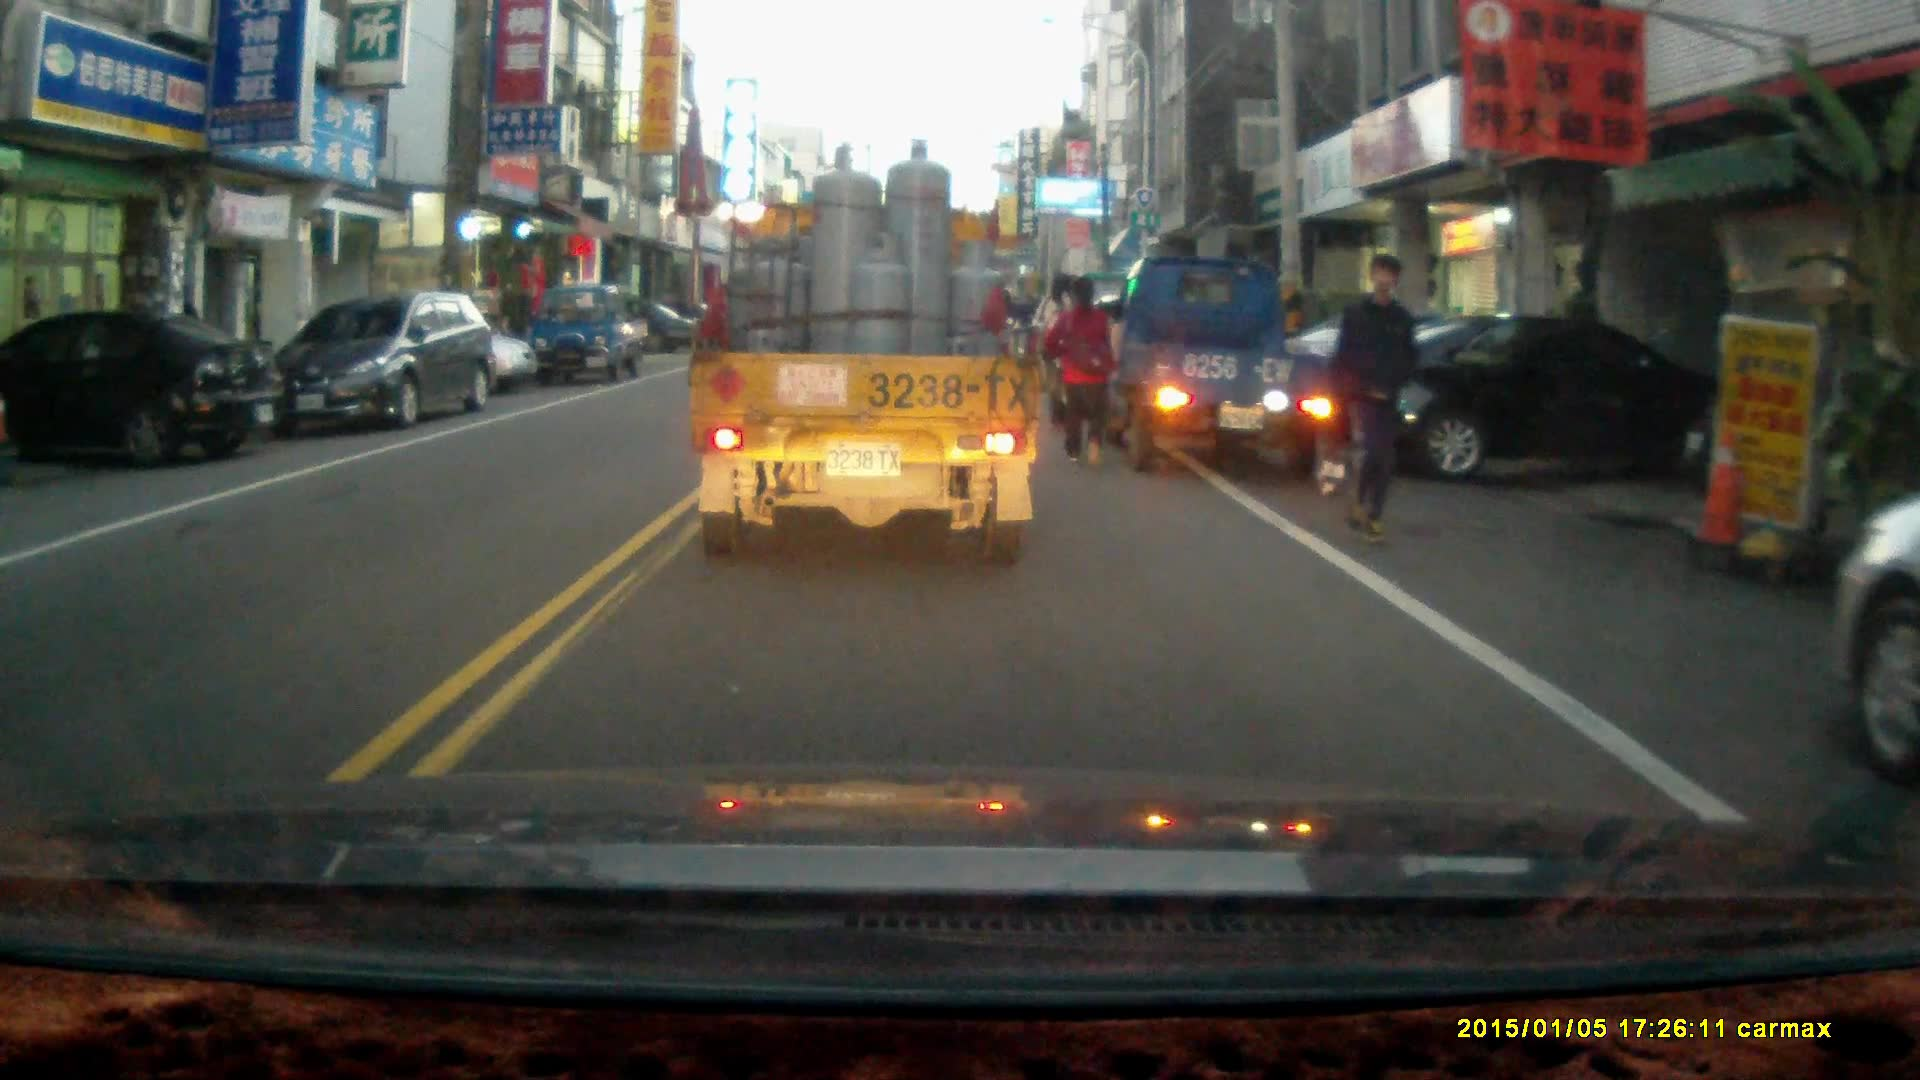pedestrian: (1324, 255, 1417, 548), (1045, 272, 1116, 465)
vehicle: (684, 139, 1045, 571), (1330, 306, 1666, 490), (1111, 253, 1358, 478), (1, 306, 286, 474), (258, 287, 506, 433), (1821, 503, 1920, 790), (531, 278, 653, 382)
